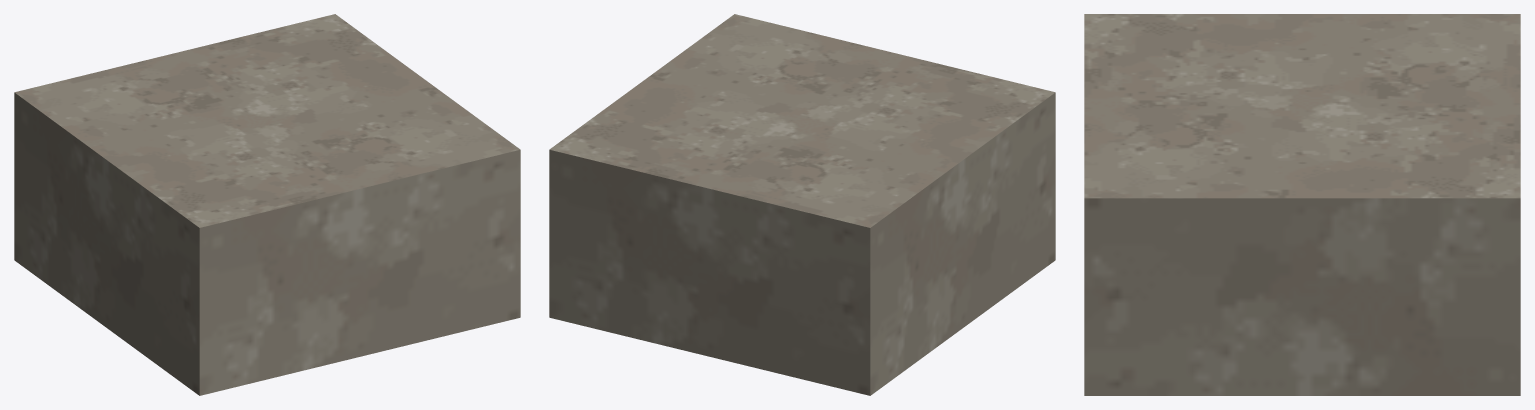
Rendered from SM_FLOOR_02.fbx.
The picture shows the model from 3 angles, left to right: view 1: azimuth 30°, elevation 25°; view 2: azimuth 150°, elevation 25°; view 3: azimuth 270°, elevation 25°; orthographic projection. The views are drawn at different scales.
Parts seen in each view (by area): view 1: SM_FLOOR_02; view 2: SM_FLOOR_02; view 3: SM_FLOOR_02.
Boxes of the visible parts, x1=… form: SM_FLOOR_02: x1=14, y1=14, x2=520, y2=395; SM_FLOOR_02: x1=549, y1=14, x2=1055, y2=395; SM_FLOOR_02: x1=1084, y1=14, x2=1520, y2=395.
Size of the model in its own units: 2 by 1 by 2.
